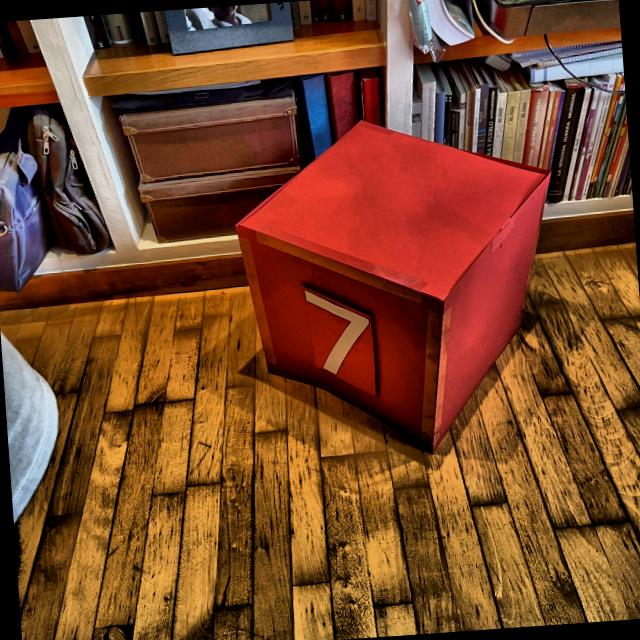red box: (227, 102, 569, 465)
seven: (302, 284, 374, 378)
